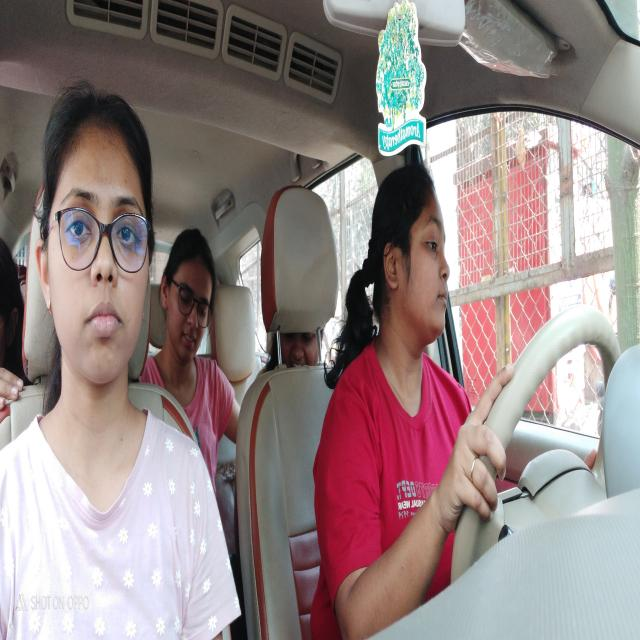person: (35, 76, 154, 392), (370, 160, 456, 354), (157, 225, 216, 369), (272, 331, 326, 374)
